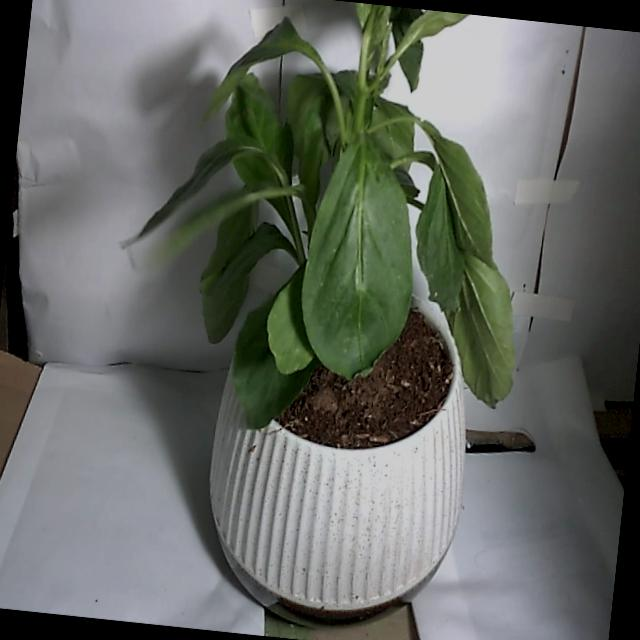Leaf: (290, 116, 429, 387)
